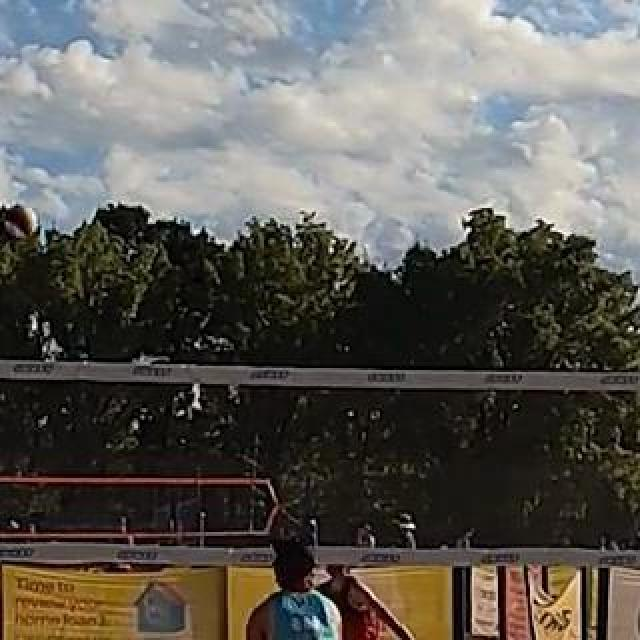volleyball: (4, 204, 38, 238)
